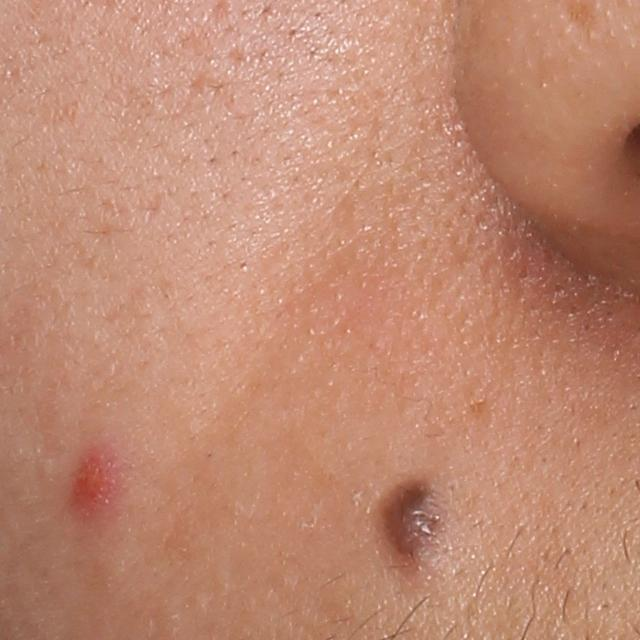nevus: (372, 447, 457, 569)
papule: (65, 446, 119, 516)
